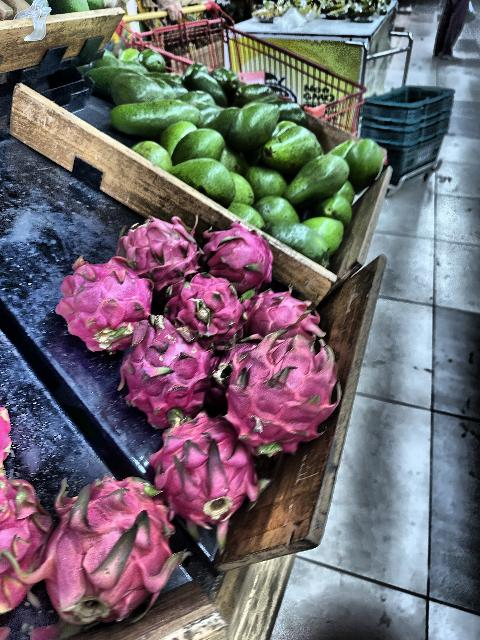buah-naga-matang: (47, 469, 184, 613), (225, 325, 334, 451), (150, 414, 255, 532), (58, 245, 150, 348), (123, 320, 211, 422), (0, 466, 48, 610), (164, 258, 244, 344), (206, 214, 280, 294), (115, 217, 201, 283), (241, 290, 324, 340)
